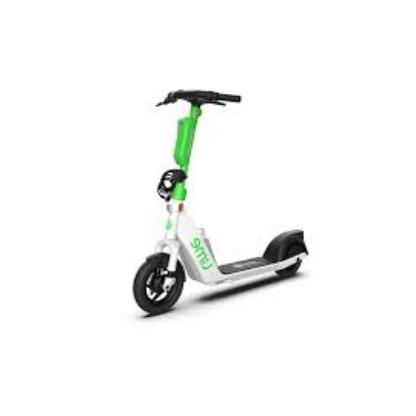bike: (132, 89, 310, 316)
